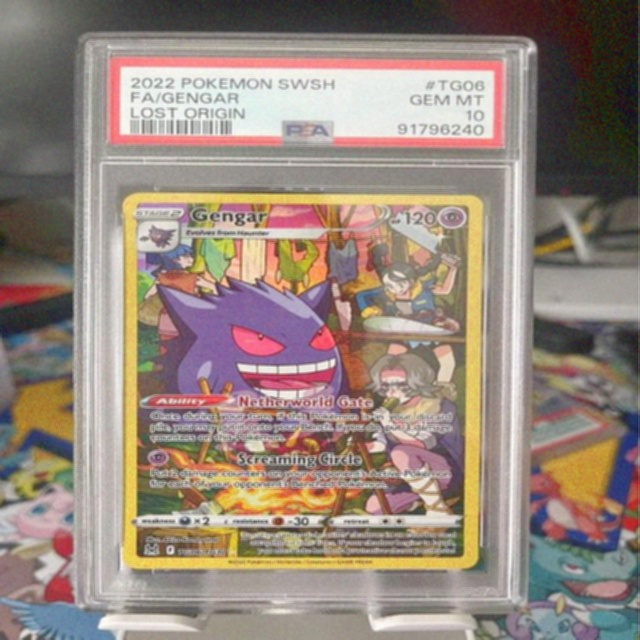card: (118, 192, 489, 572)
